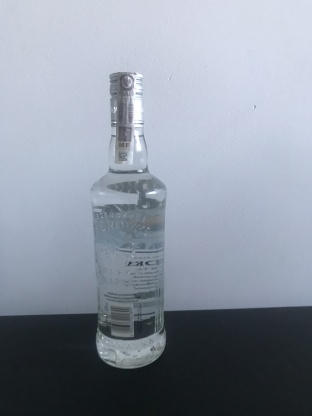nakretka: (107, 67, 146, 130)
